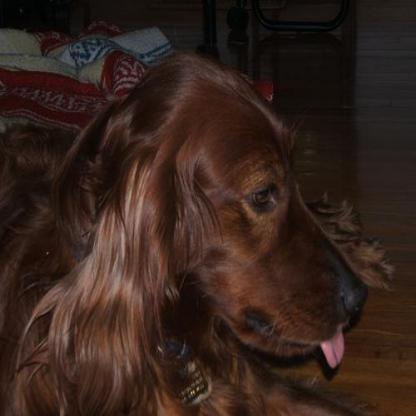Irish_setter: (0, 43, 366, 414)
